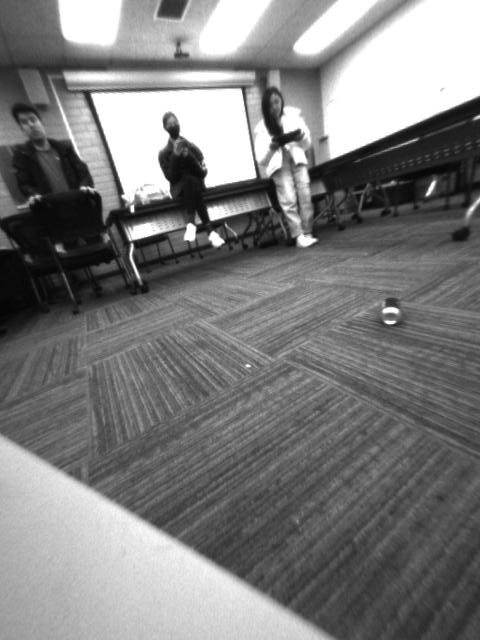can: (376, 294, 407, 332)
